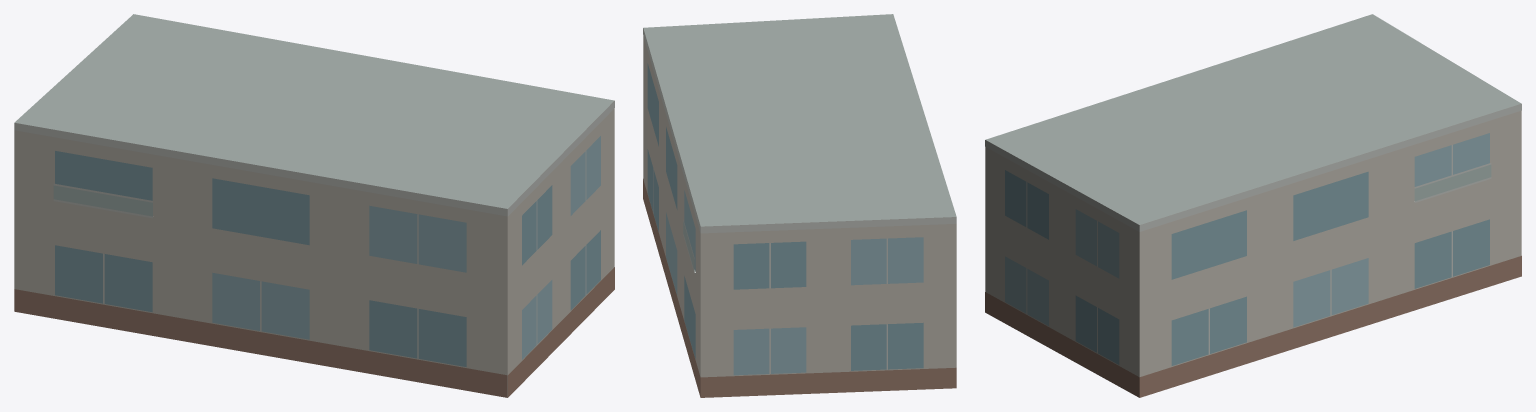
File: survey-upis-32677972.glb
3 renders of one model, left to right at view 1: azimuth 30°, elevation 25°; view 2: azimuth 150°, elevation 25°; view 3: azimuth 270°, elevation 25°, orthographic. The views are drawn at different scales.
Visible parts, largest first — view 1: survey-upis-32677972.tmp; view 2: survey-upis-32677972.tmp; view 3: survey-upis-32677972.tmp.
Boxes of the visible parts, box(x1,y1,x2,y2) form: survey-upis-32677972.tmp: box(14, 14, 614, 397); survey-upis-32677972.tmp: box(643, 14, 956, 397); survey-upis-32677972.tmp: box(985, 14, 1521, 397).
Bounding box in the file's own units: 16 × 6.1 × 17.18.
